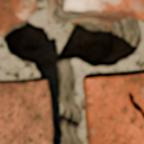brick: (84, 74, 143, 143), (0, 80, 52, 143)
broken_brick: (67, 0, 143, 23), (0, 0, 35, 38)
crack: (2, 0, 142, 143)
